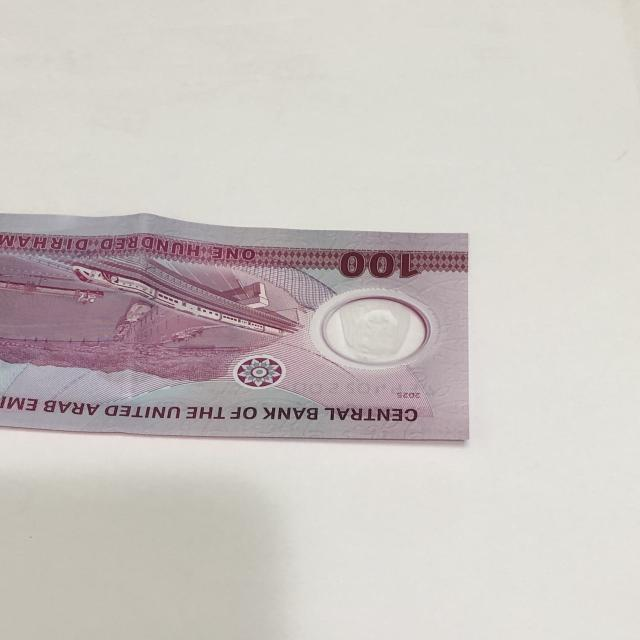100_AED: (1, 211, 471, 443)
